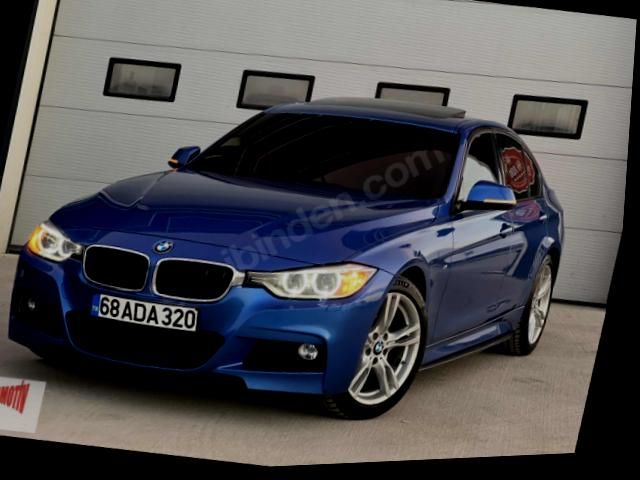plaka: (89, 293, 198, 332)
